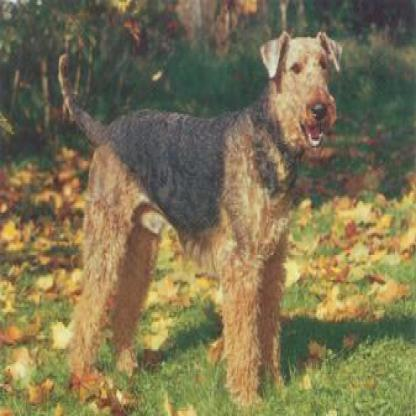dog: (52, 19, 348, 416)
